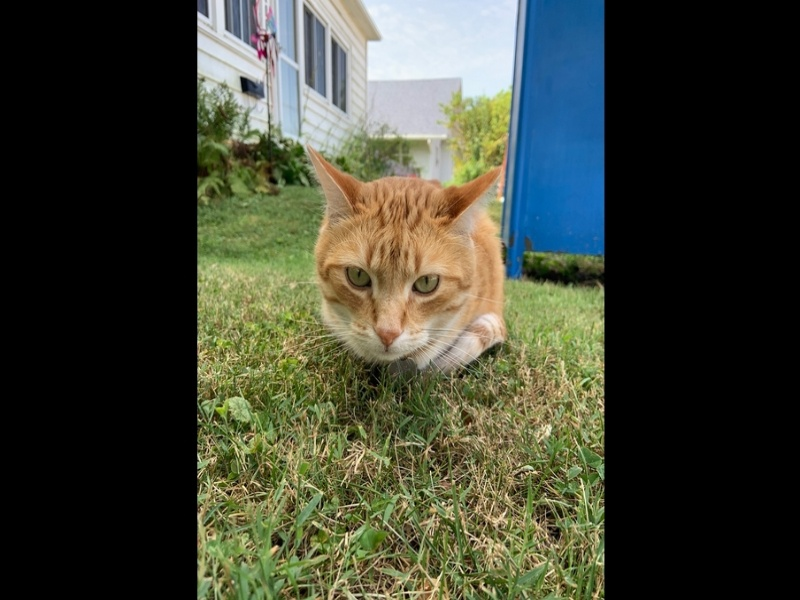cat: (293, 142, 510, 376)
